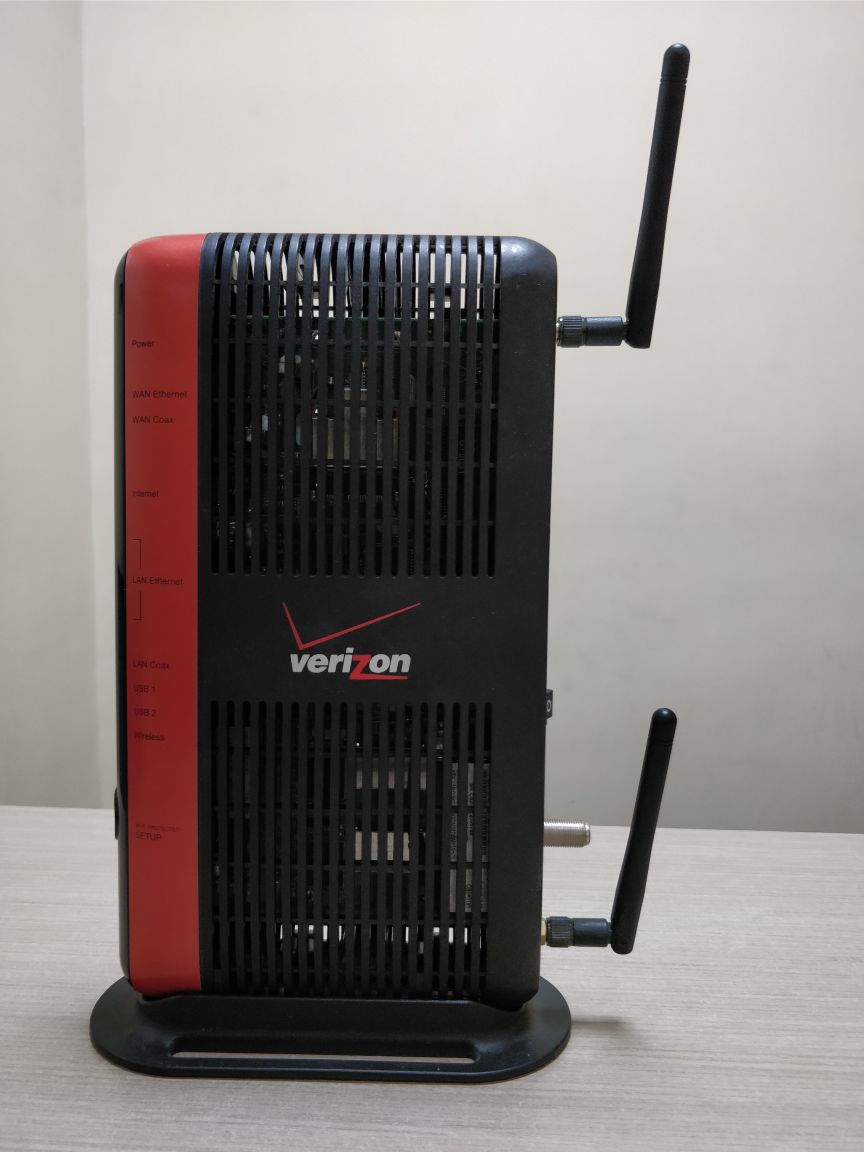Verizon Router: (63, 148, 728, 1115)
